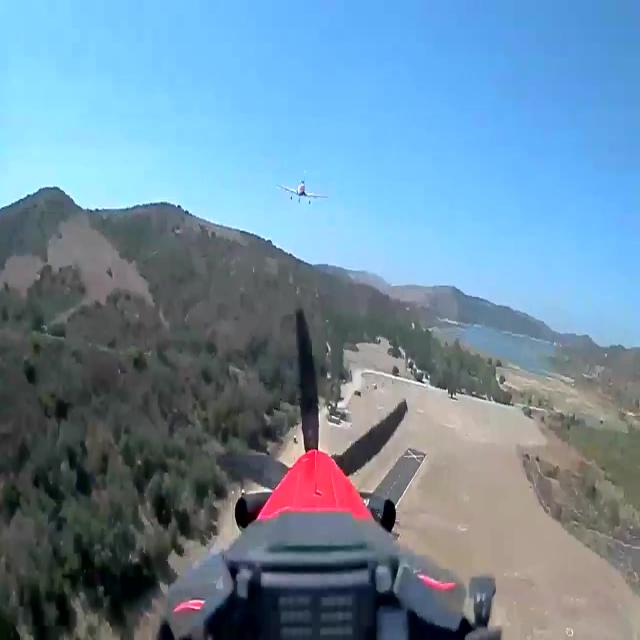iha: (275, 170, 328, 206)
